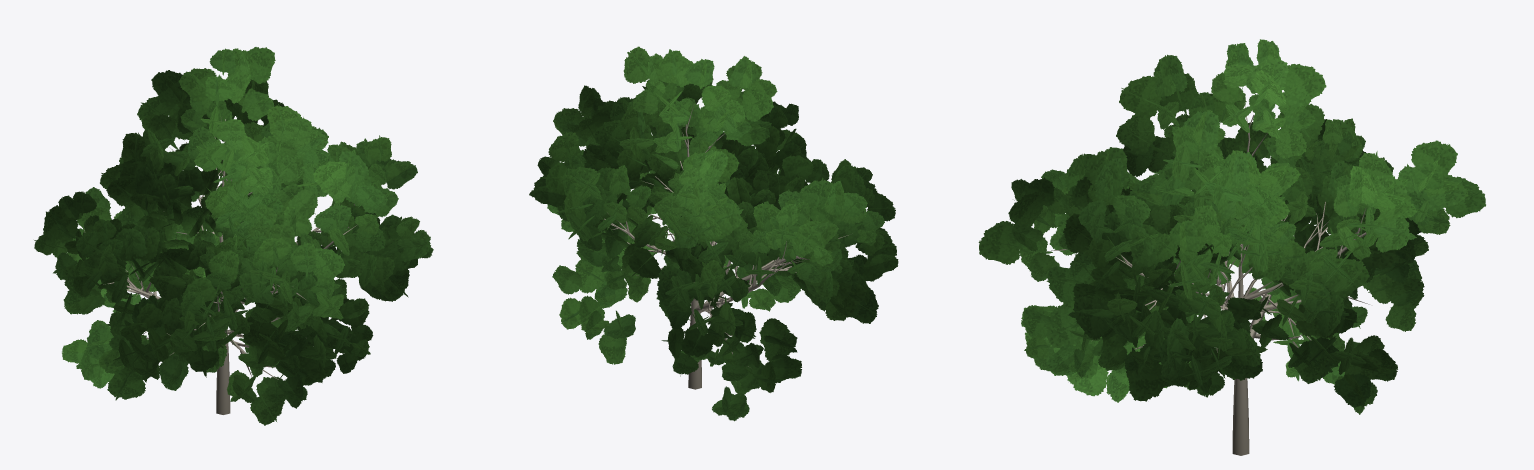
The model's file is laurel.glb.
3 views of the same model, side by side, from view 1: azimuth 30°, elevation 25°; view 2: azimuth 150°, elevation 25°; view 3: azimuth 270°, elevation 25° (orthographic). The views are drawn at different scales.
Visible parts, largest first — view 1: laurel; view 2: laurel; view 3: laurel.
Boxes of the visible parts, x1=… form: laurel: x1=34, y1=47, x2=433, y2=425; laurel: x1=529, y1=46, x2=898, y2=421; laurel: x1=978, y1=39, x2=1485, y2=455.
Bounding box in the file's own units: 12.71 × 12 × 13.8.
Materials: 2 (1 with a texture image).
